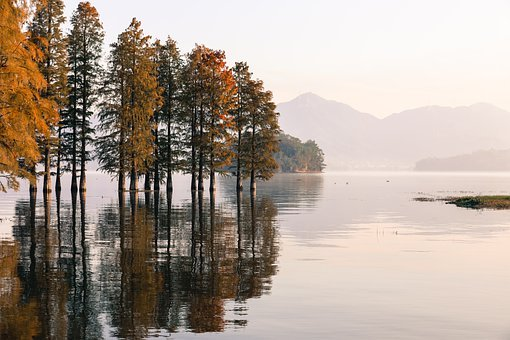sea: (26, 172, 510, 337)
tree: (15, 11, 278, 188)
